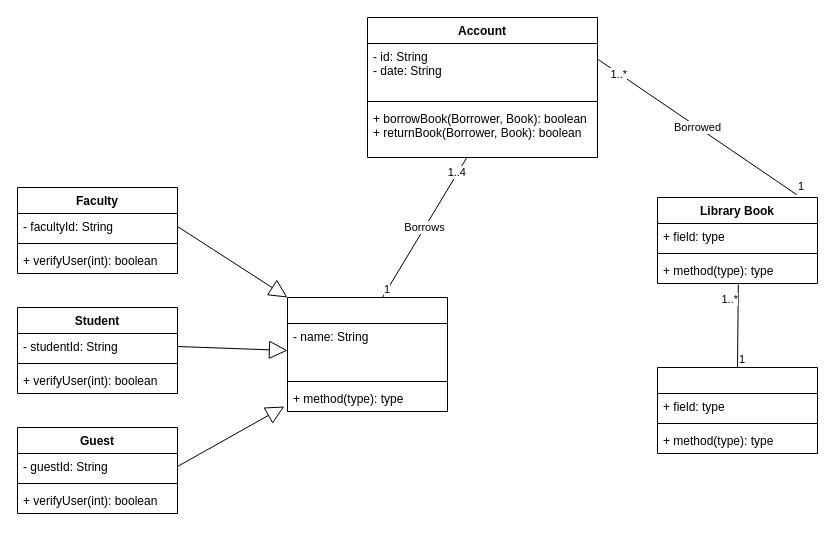
Image size: 835x534. Some labels were removed from this diagram. Each missing label, with the box of its shape:
Borrower: (286, 296, 448, 412)
Library: (656, 366, 818, 454)
